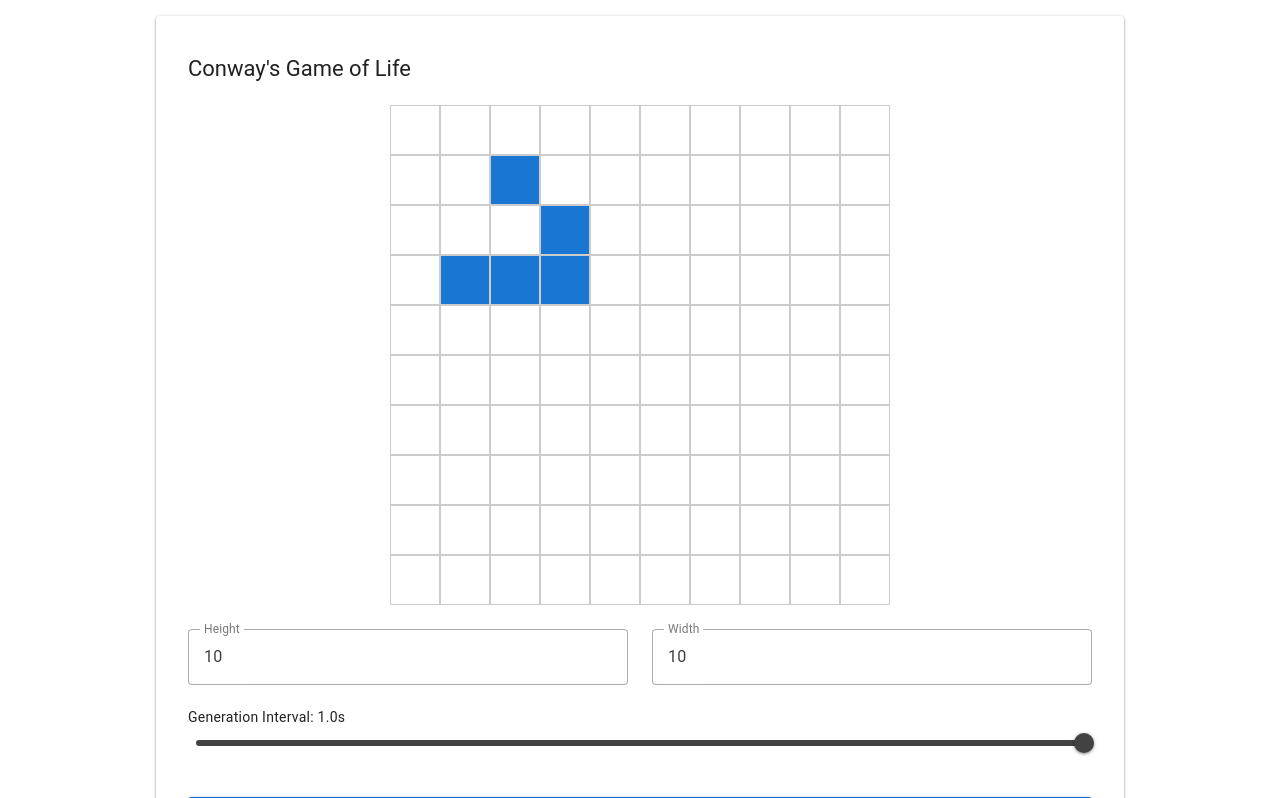
Test: Life Game E2E Tests › should keep the grid when a size input is left blank
The image size is (1280, 798).
Clear the number field labelled "Width": (872,658) [652, 630, 1092, 686]
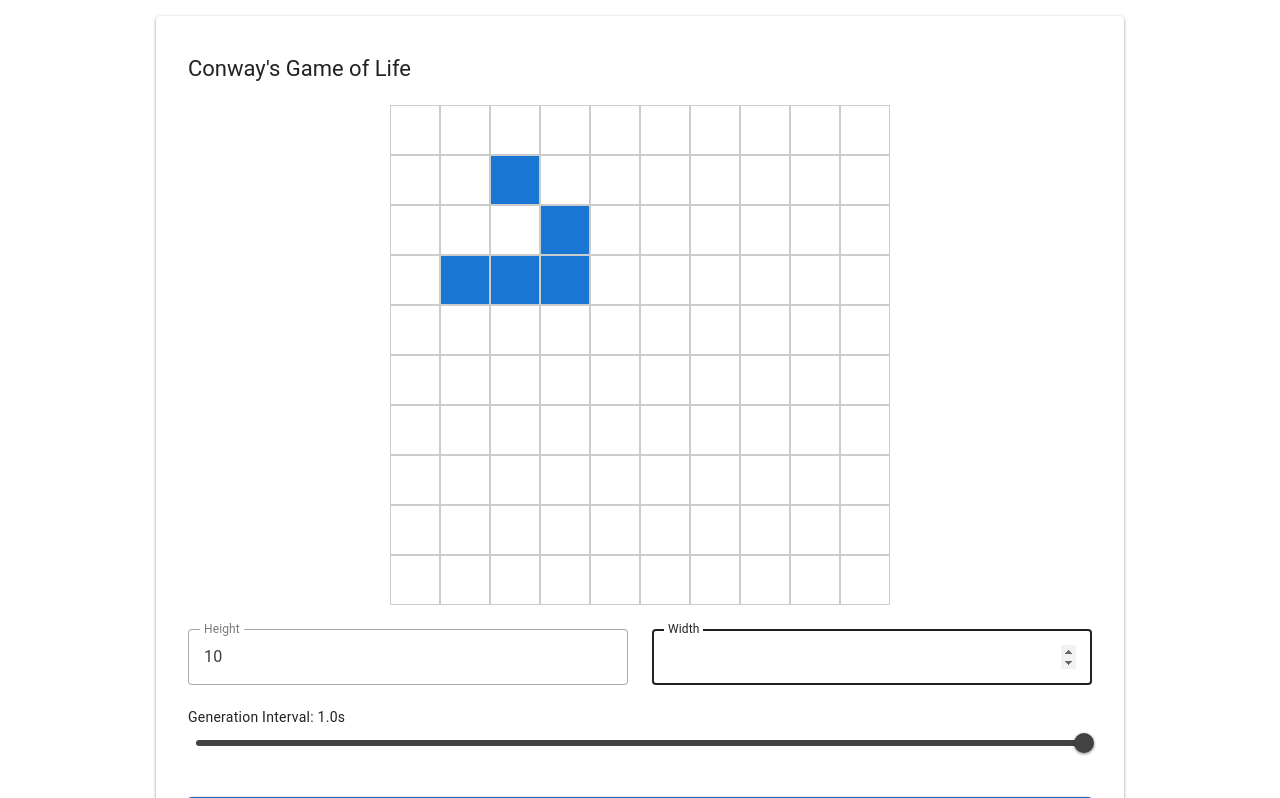
Leave the number field labelled "Width", box [652, 630, 1092, 686]
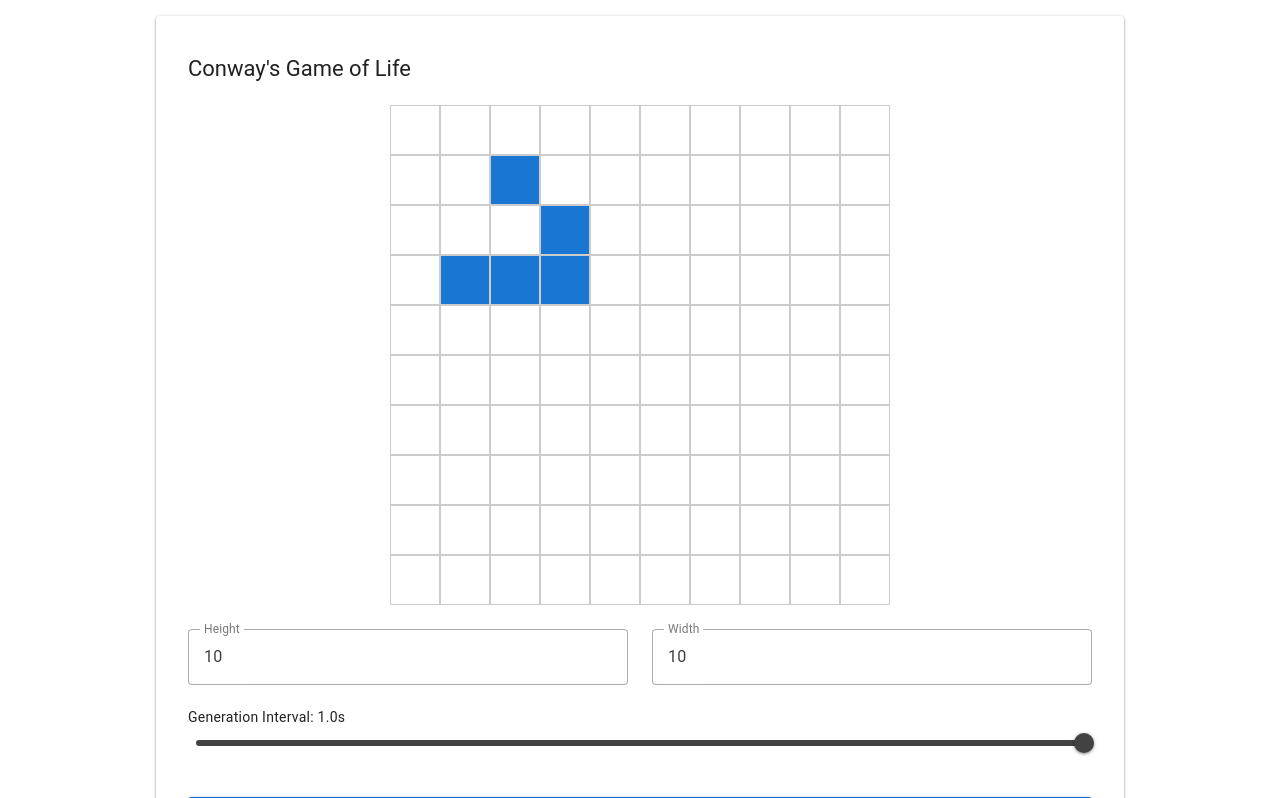
Check: the number of elements with class "live" is 5, box [490, 156, 540, 206]; [540, 206, 590, 256]; [440, 256, 490, 306]; [490, 256, 540, 306]; [540, 256, 590, 306]
Check: the number field labelled "Width" holds "10", box [652, 630, 1092, 686]
